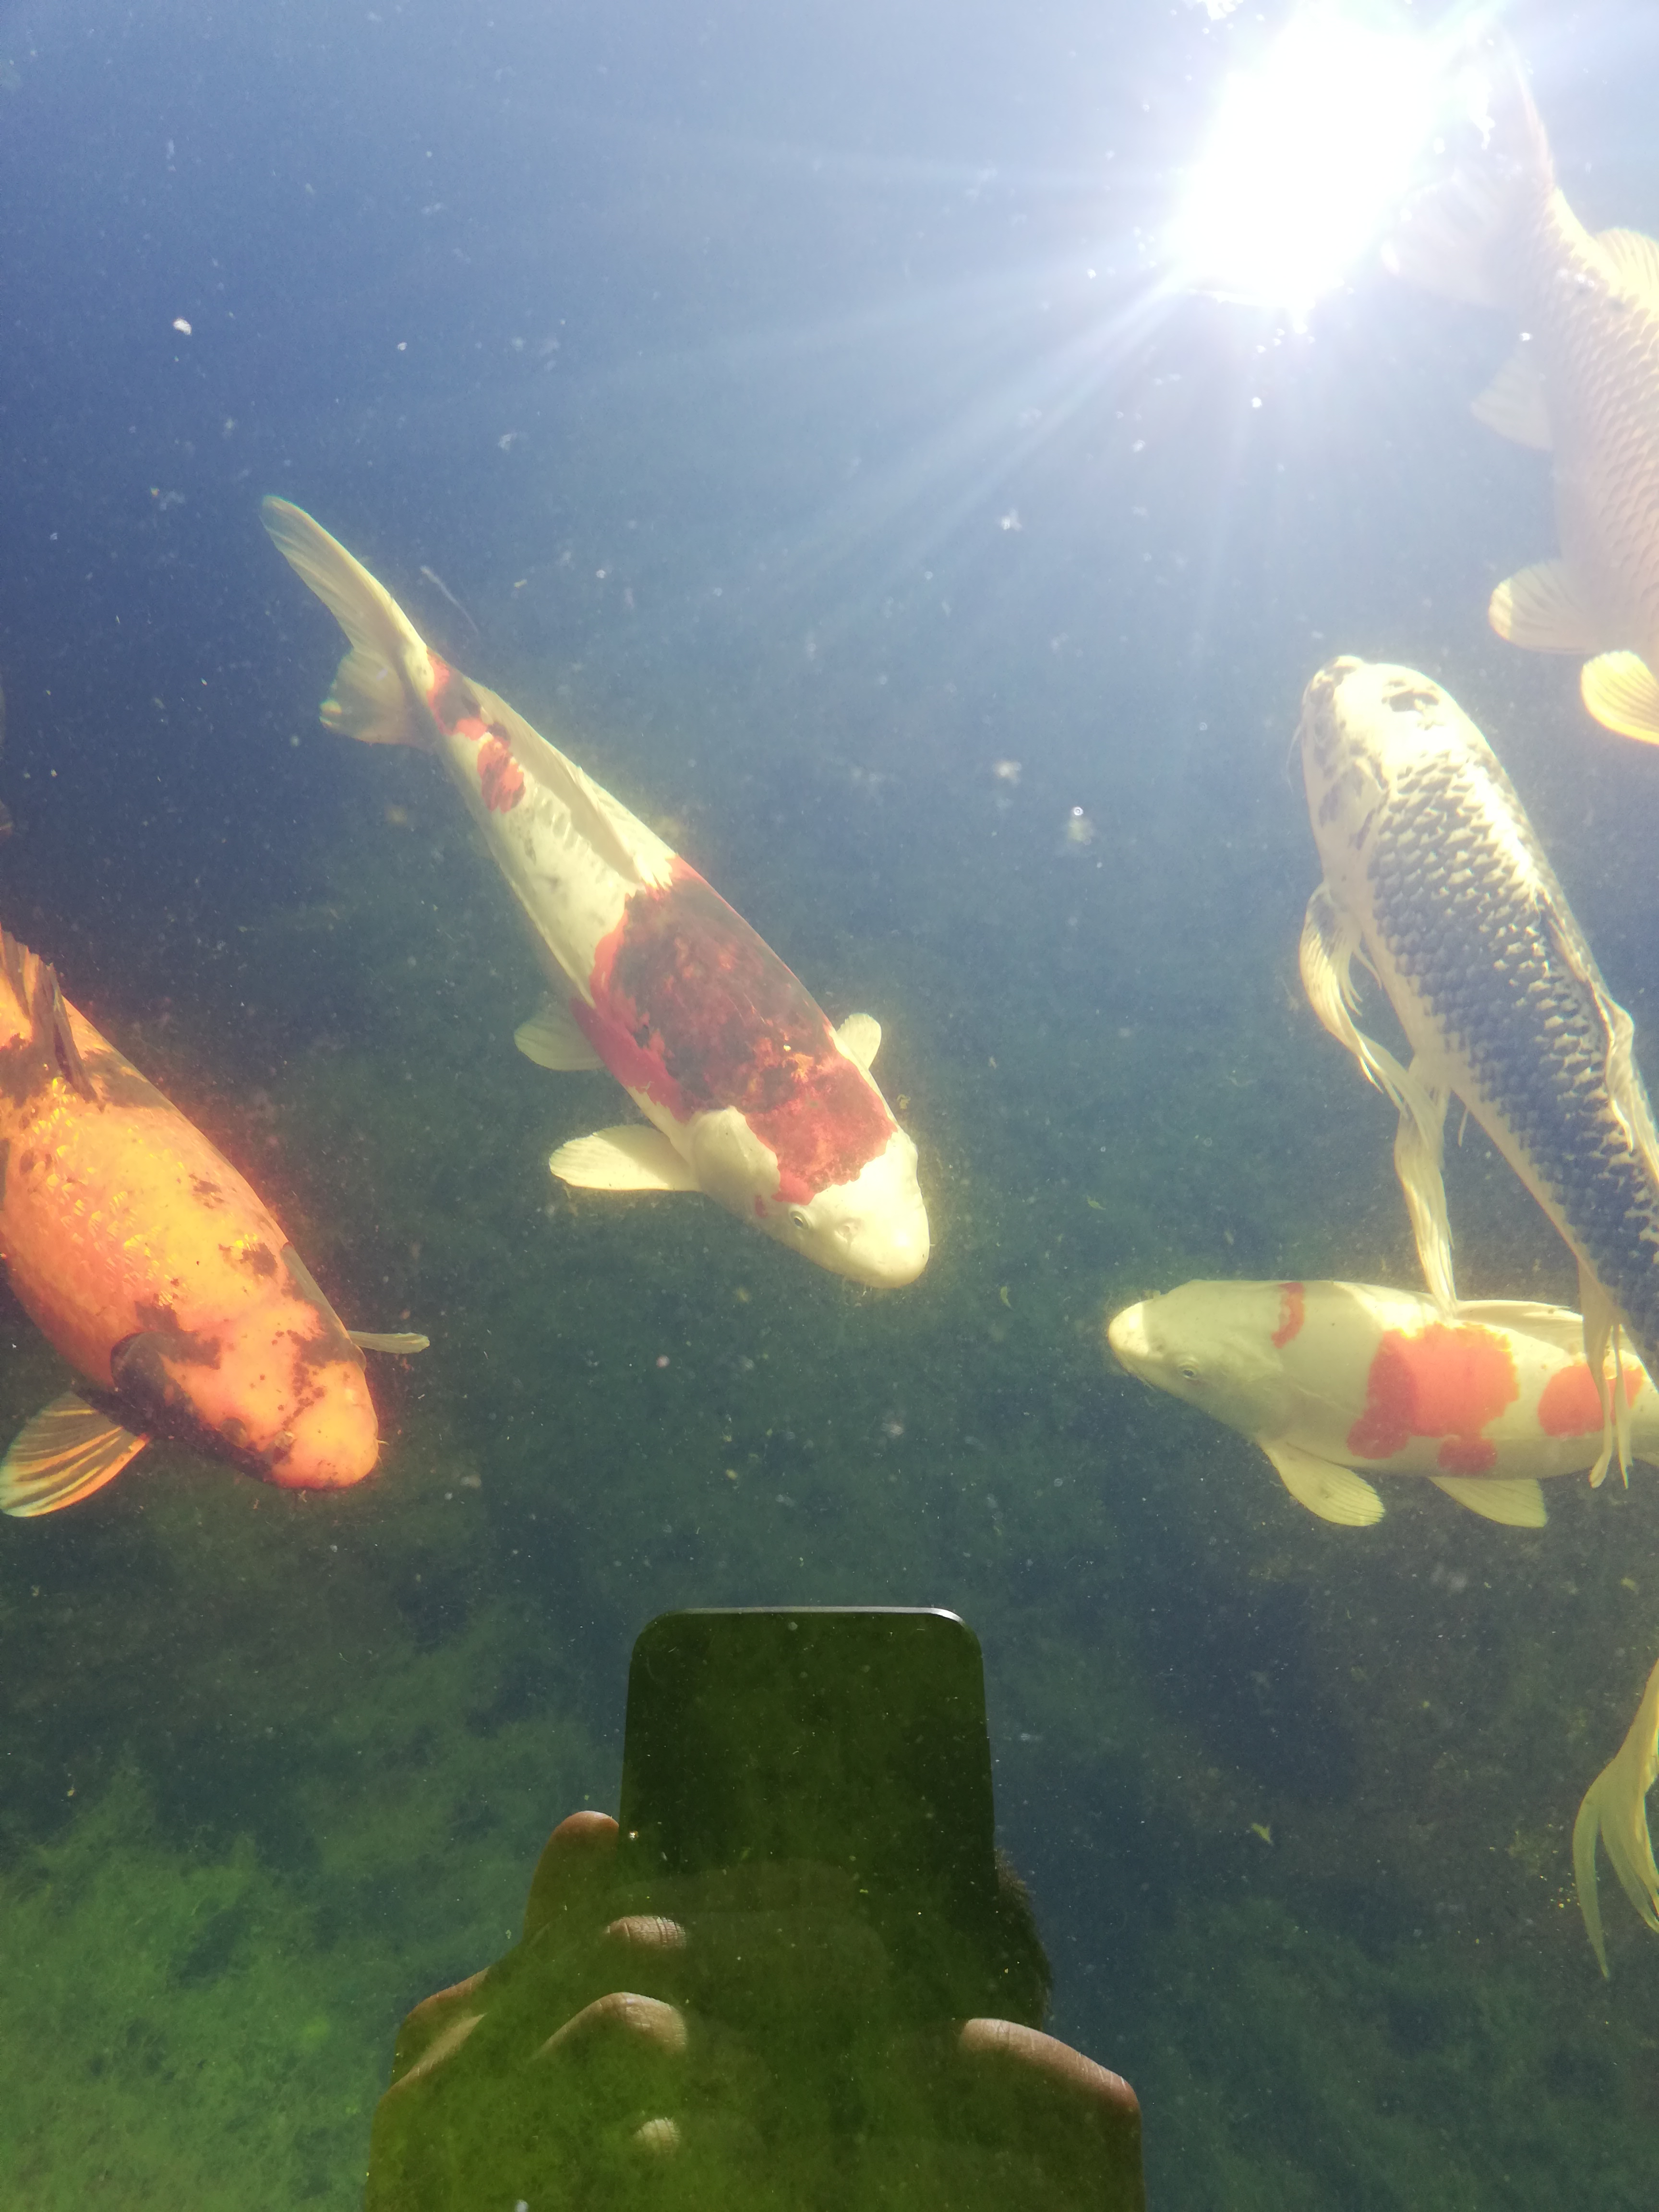Alfred2: (1253, 611, 1659, 1480)
Wallie: (221, 463, 960, 1298)
